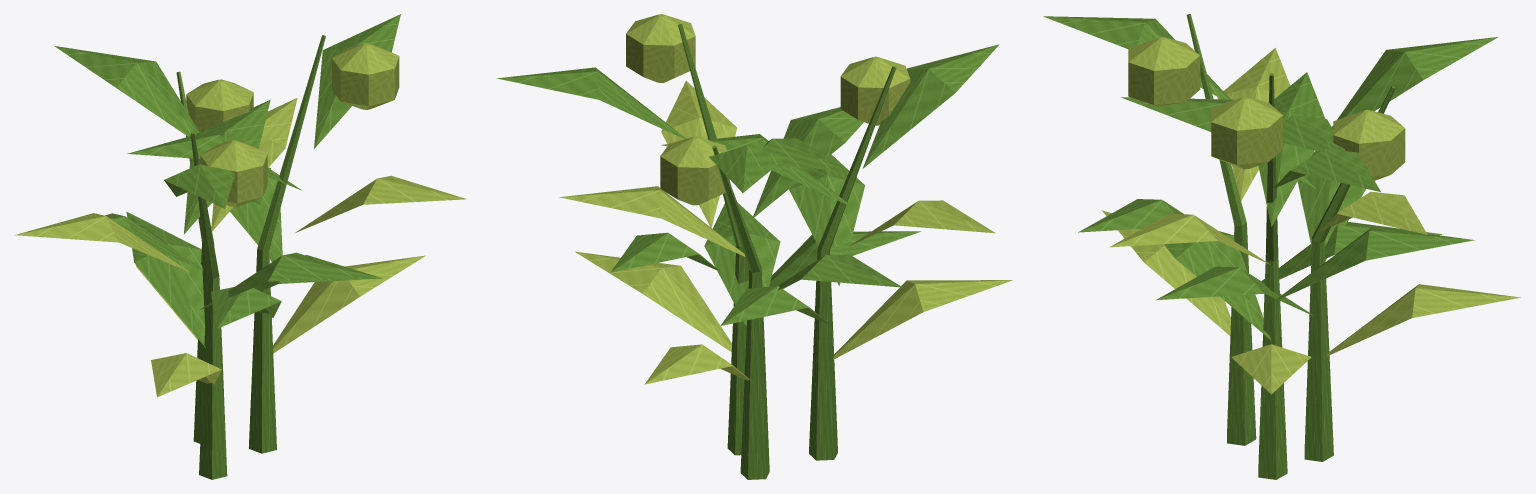
Rendered from crop-lime-ready.glb.
3 renders of one model, left to right at view 1: azimuth 30°, elevation 25°; view 2: azimuth 150°, elevation 25°; view 3: azimuth 270°, elevation 25°, orthographic. The views are drawn at different scales.
Visible parts, largest first — view 1: crop-lime-ready; view 2: crop-lime-ready; view 3: crop-lime-ready.
Part boxes in pixels (x1=…): crop-lime-ready: x1=14, y1=14, x2=466, y2=479; crop-lime-ready: x1=496, y1=14, x2=1012, y2=479; crop-lime-ready: x1=1043, y1=14, x2=1520, y2=479.
Size of the model in its own units: 0.9414 by 0.8212 by 0.8257.
1 material, 1 textured.
